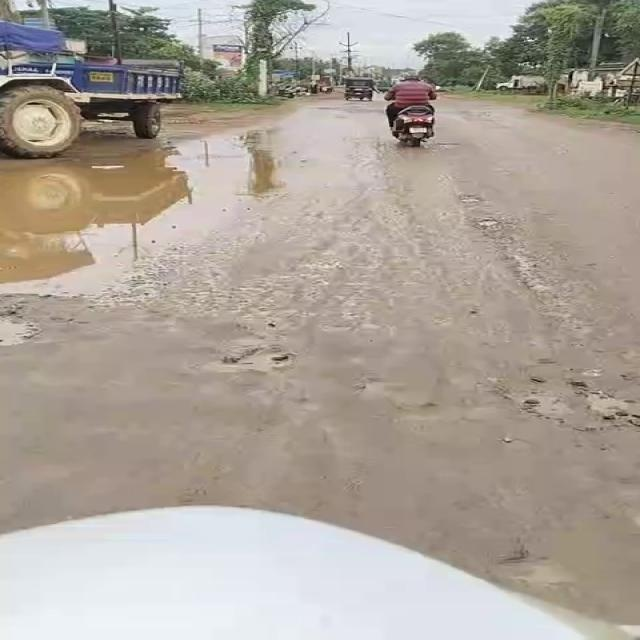pothole: (0, 107, 371, 298), (502, 553, 578, 591), (502, 246, 554, 298), (223, 341, 300, 374), (187, 297, 283, 321), (513, 390, 574, 426), (400, 408, 487, 423), (292, 260, 368, 274), (351, 380, 402, 400), (585, 384, 612, 421), (332, 299, 373, 323), (0, 317, 35, 342), (217, 282, 283, 295), (570, 364, 609, 381), (468, 217, 511, 231), (315, 321, 351, 336), (432, 139, 461, 149), (452, 197, 480, 205)
